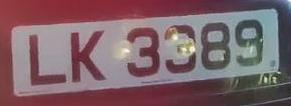3: (122, 23, 163, 80), (159, 19, 200, 75)
8: (197, 18, 231, 72)
9: (232, 14, 268, 69)
K: (63, 22, 111, 91)
L: (17, 27, 68, 92)
